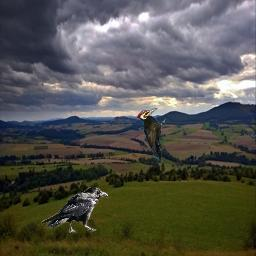Crow: (41, 186, 108, 235)
Woodpecker: (135, 108, 166, 161)
